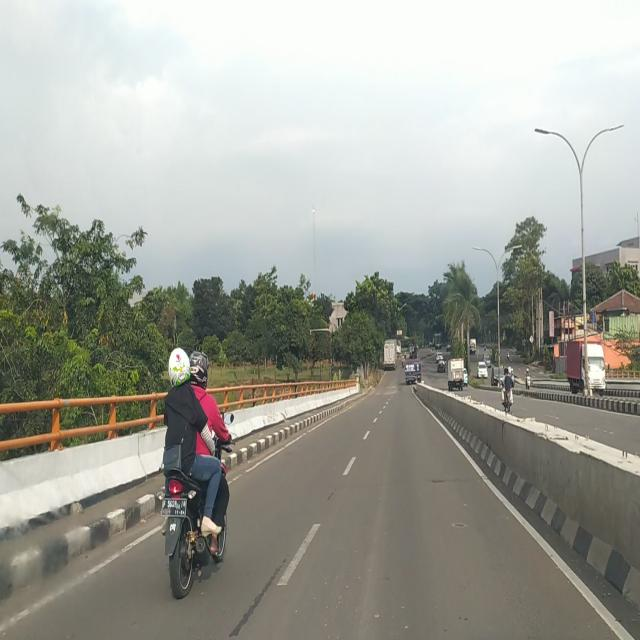Sewer Cover: (428, 476, 471, 483)
